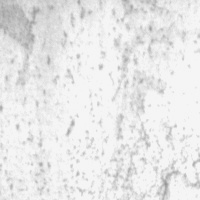pitted_surface: (0, 3, 199, 200)
